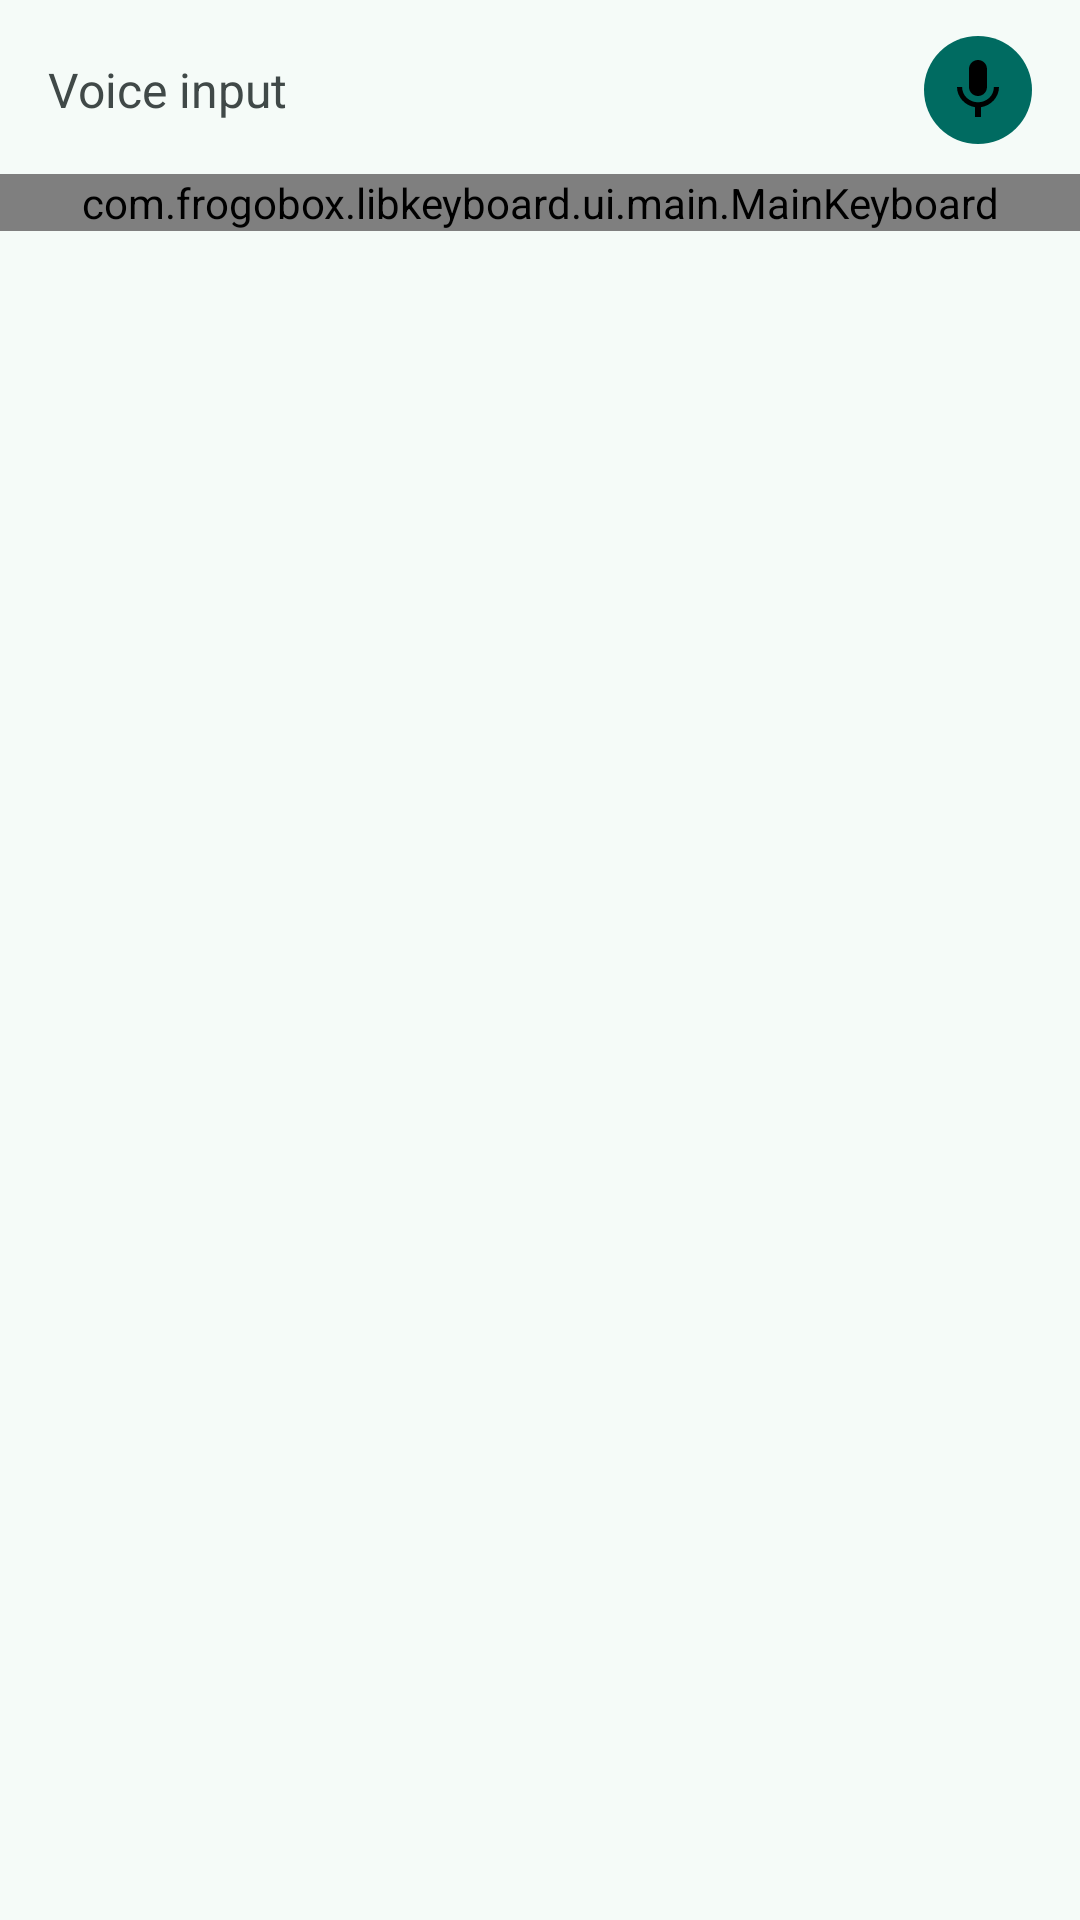

Icon bounding boxes for this 1080x1920 phone screenshot, format bbox(x1, y1, x2, y2):
Start: bbox(924, 36, 1032, 144)
